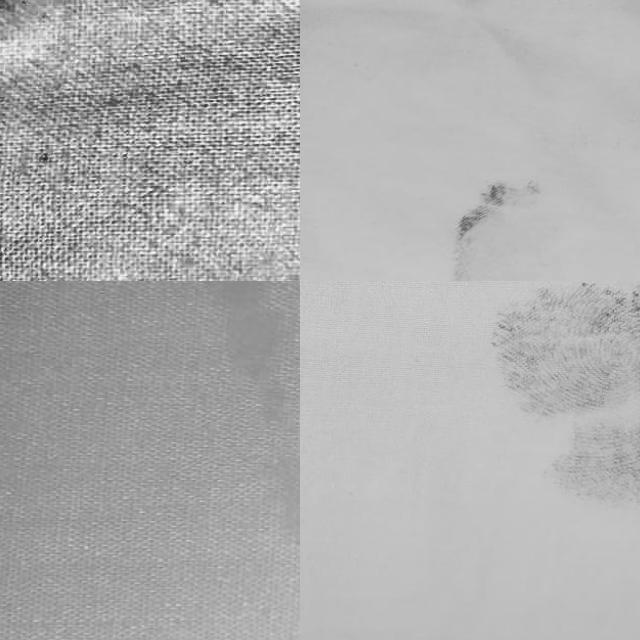Thread_other: (449, 281, 640, 593), (151, 281, 300, 640), (429, 160, 601, 281)
